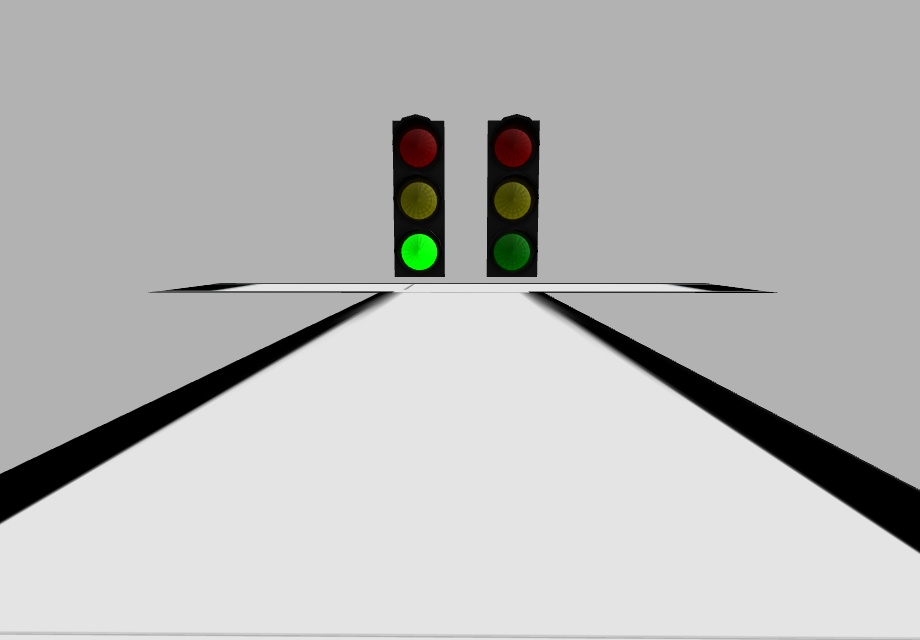green_off: (493, 231, 530, 272)
green_on: (400, 232, 439, 273)
